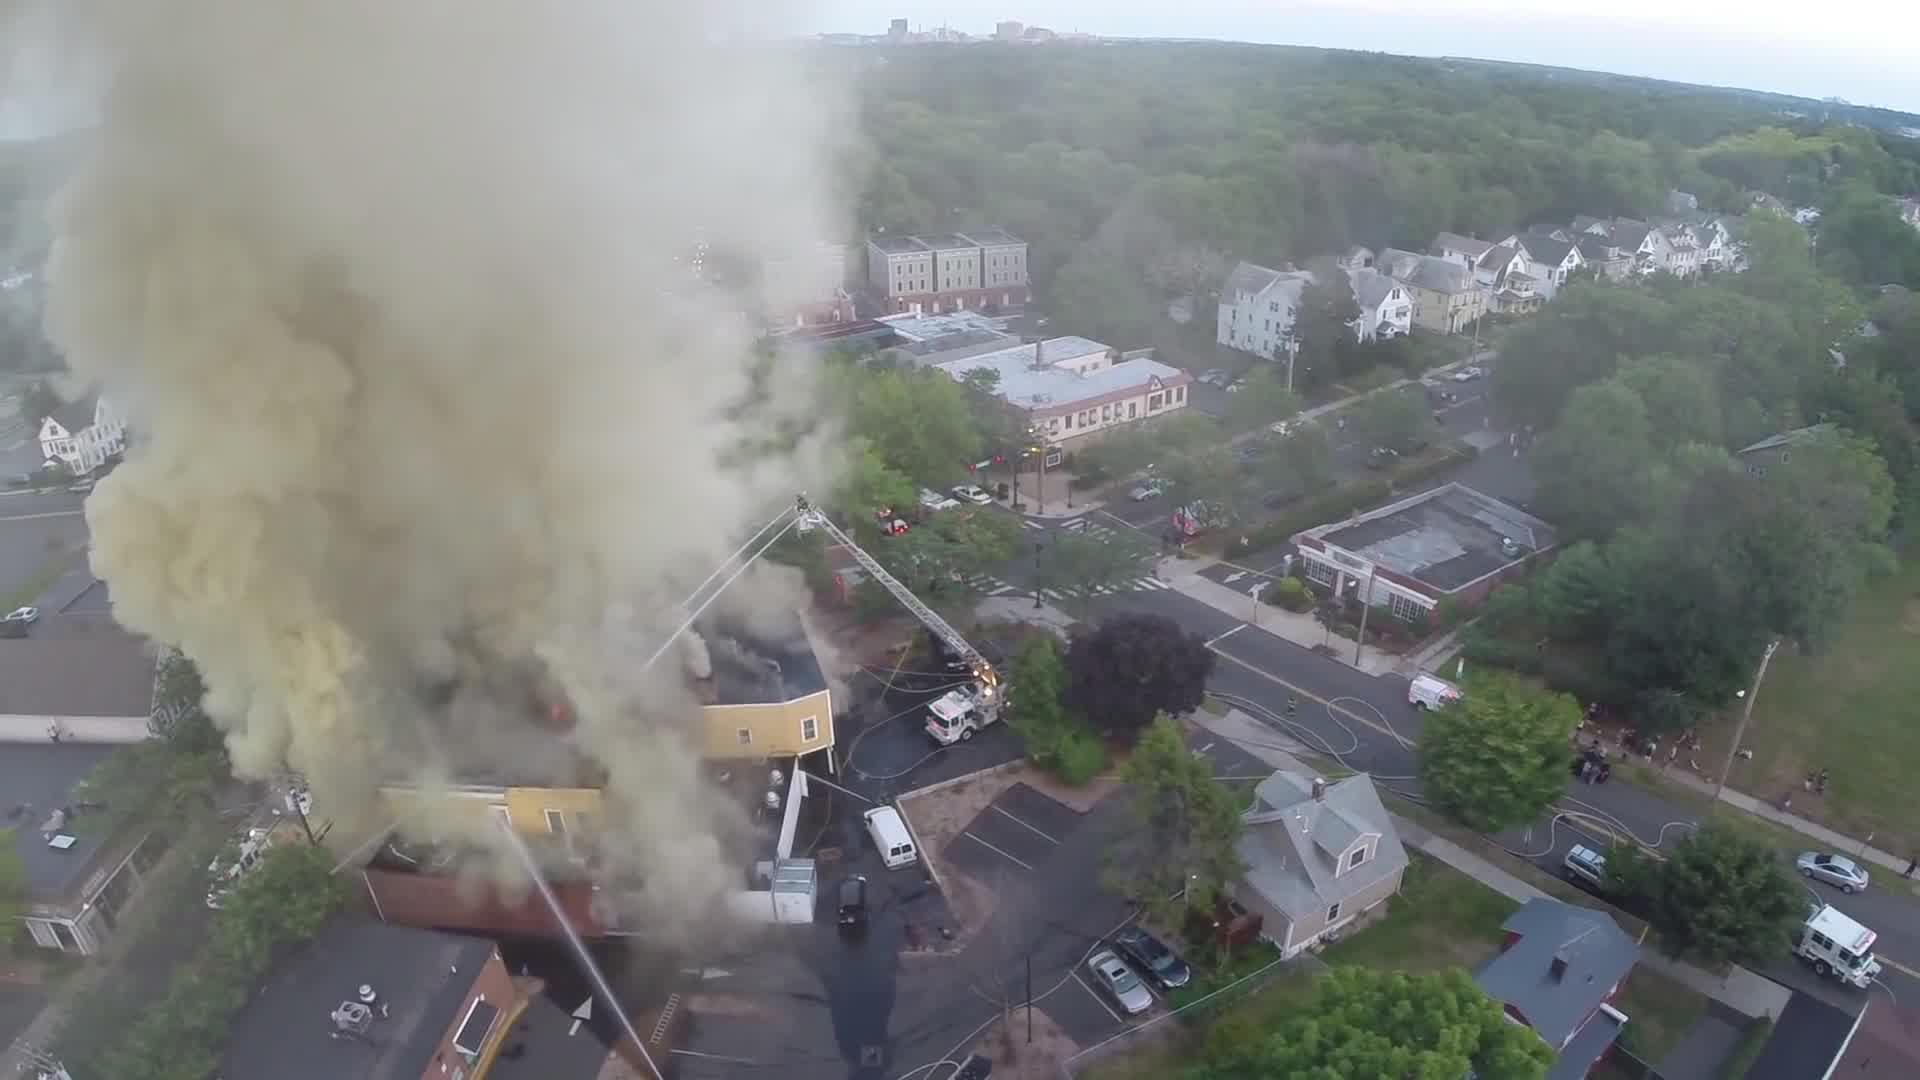smoke: (167, 37, 770, 702)
